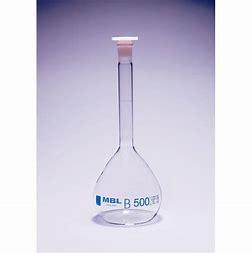Volumetric flask: (67, 23, 166, 229)
